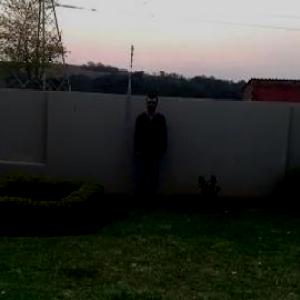follow: (132, 90, 168, 209)
